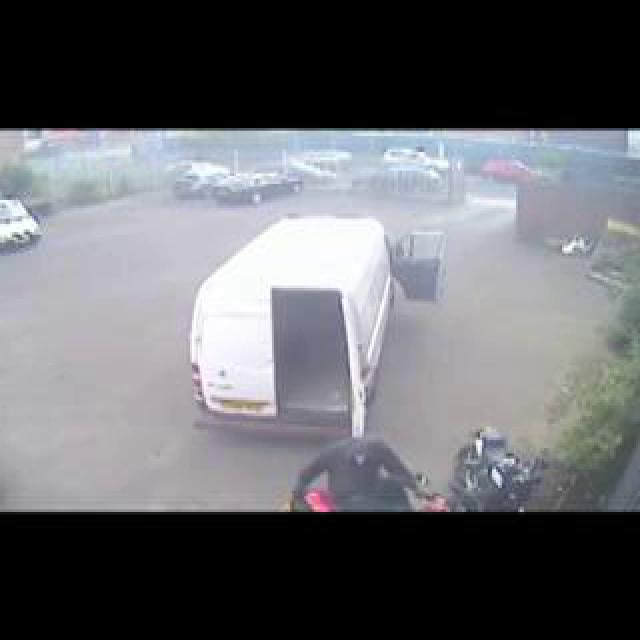stealing: (207, 172, 505, 569)
